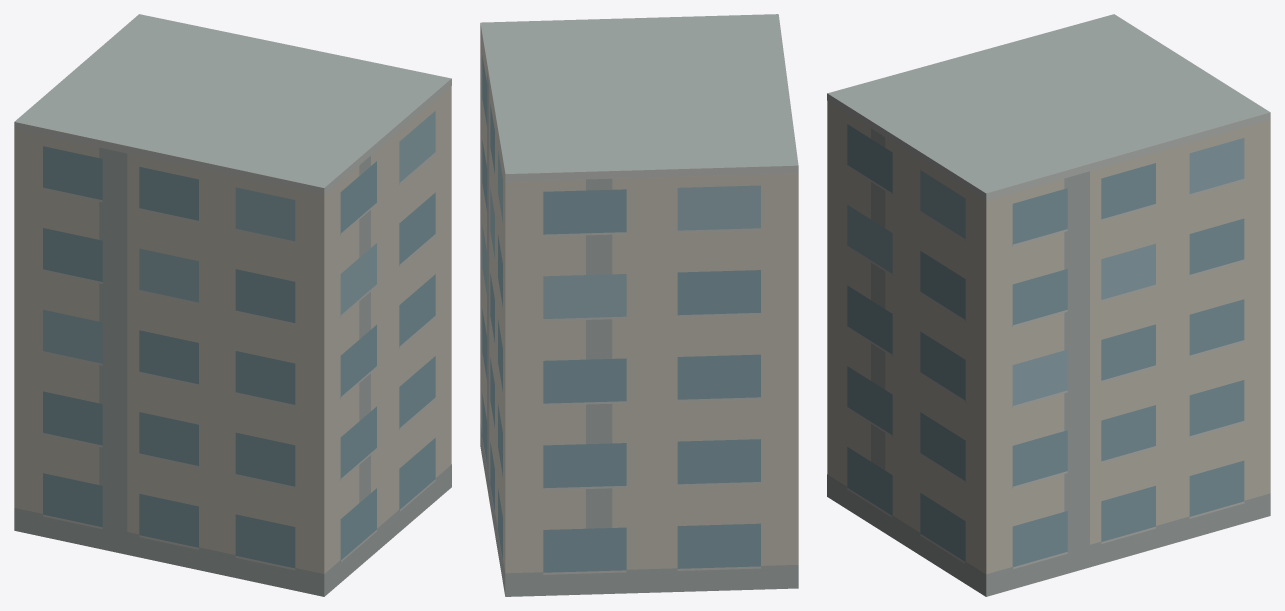
The model's file is survey-upis-33012118.glb.
3 views of the same model, side by side, from view 1: azimuth 30°, elevation 25°; view 2: azimuth 150°, elevation 25°; view 3: azimuth 270°, elevation 25° (orthographic). The views are drawn at different scales.
Visible parts, largest first — view 1: survey-upis-33012118.tmp; view 2: survey-upis-33012118.tmp; view 3: survey-upis-33012118.tmp.
Boxes of the visible parts, x1,y1,x2,y2 form: survey-upis-33012118.tmp: (14,14,451,596); survey-upis-33012118.tmp: (480,14,798,596); survey-upis-33012118.tmp: (827,14,1270,596).
Bounding box in the file's own units: 12.79 × 13.4 × 13.36.
